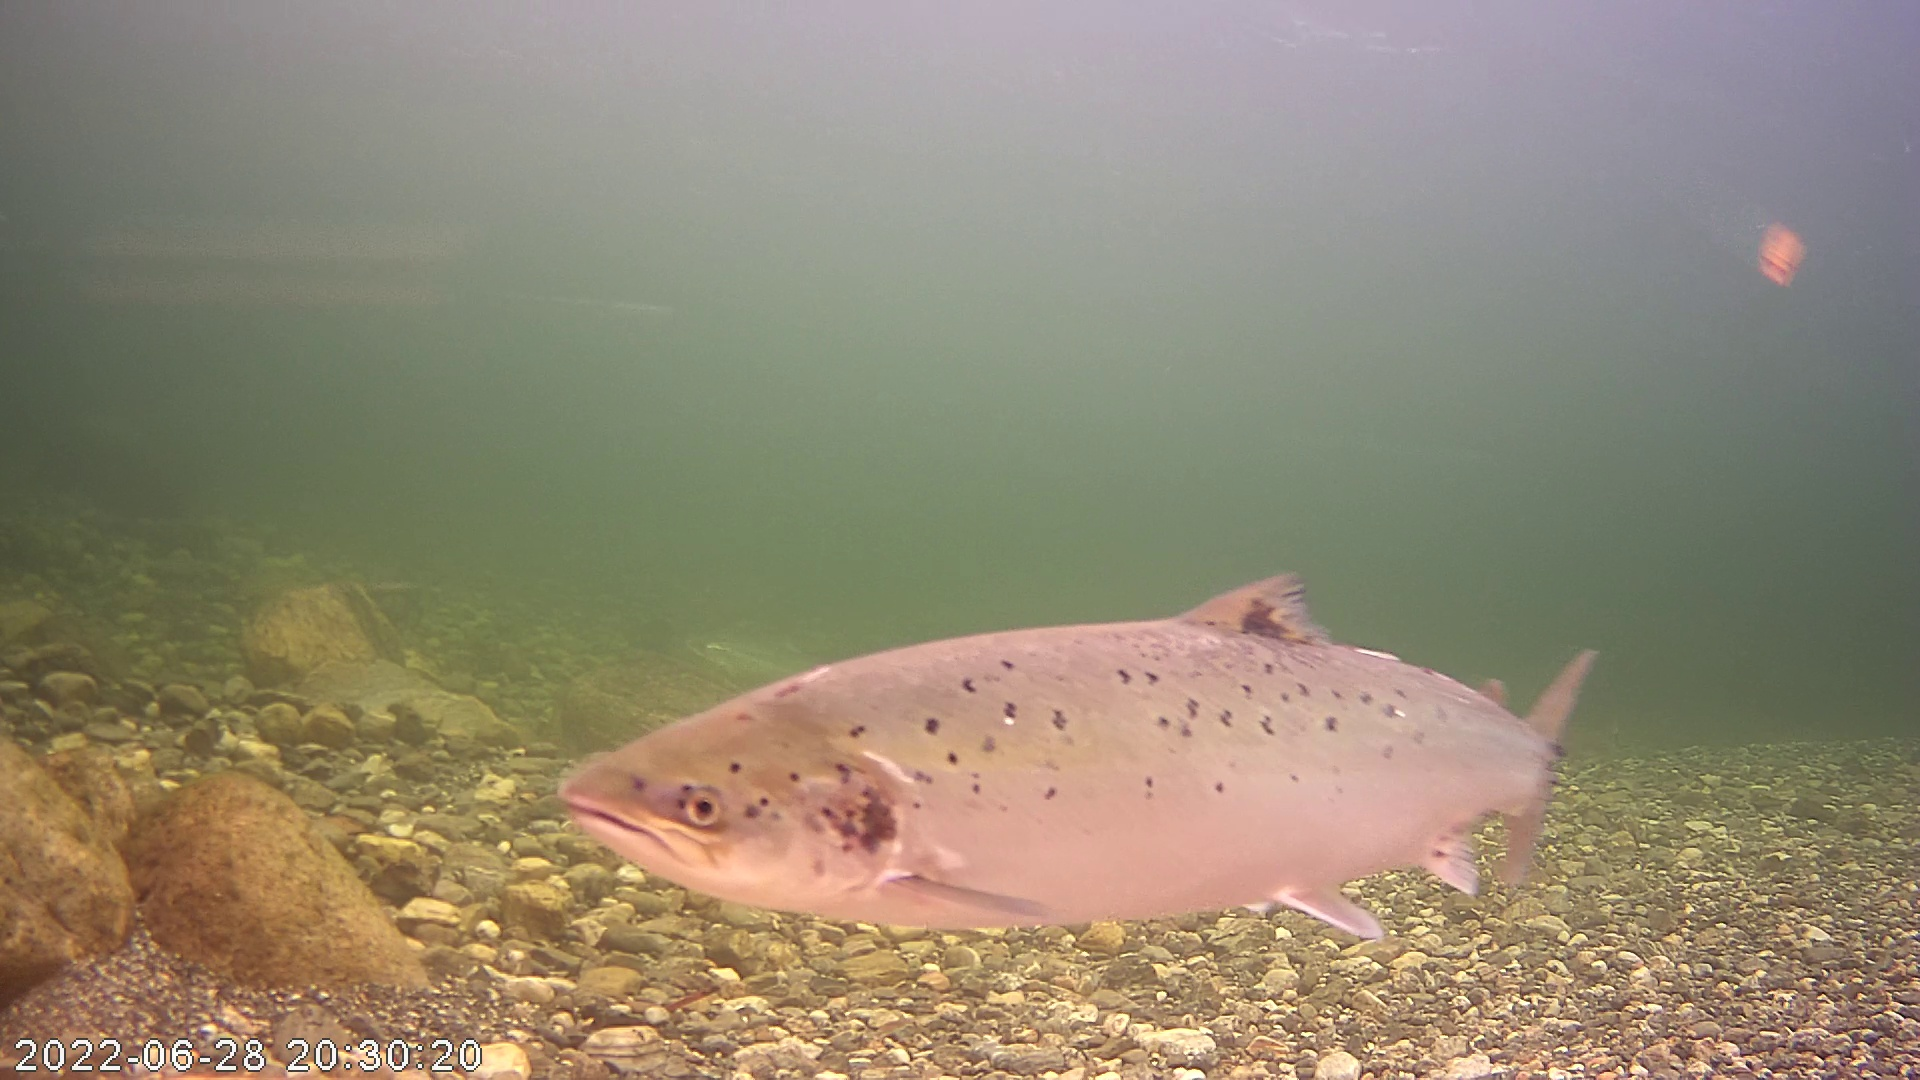salmon: (553, 537, 1601, 949)
